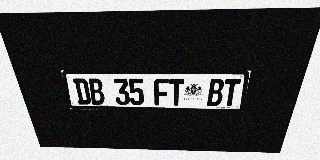3: (113, 79, 130, 105)
5: (128, 79, 144, 105)
B: (87, 78, 106, 105), (207, 79, 225, 106)
D: (73, 78, 92, 105)
F: (154, 79, 169, 105)
T: (222, 79, 241, 106), (169, 79, 184, 106)
